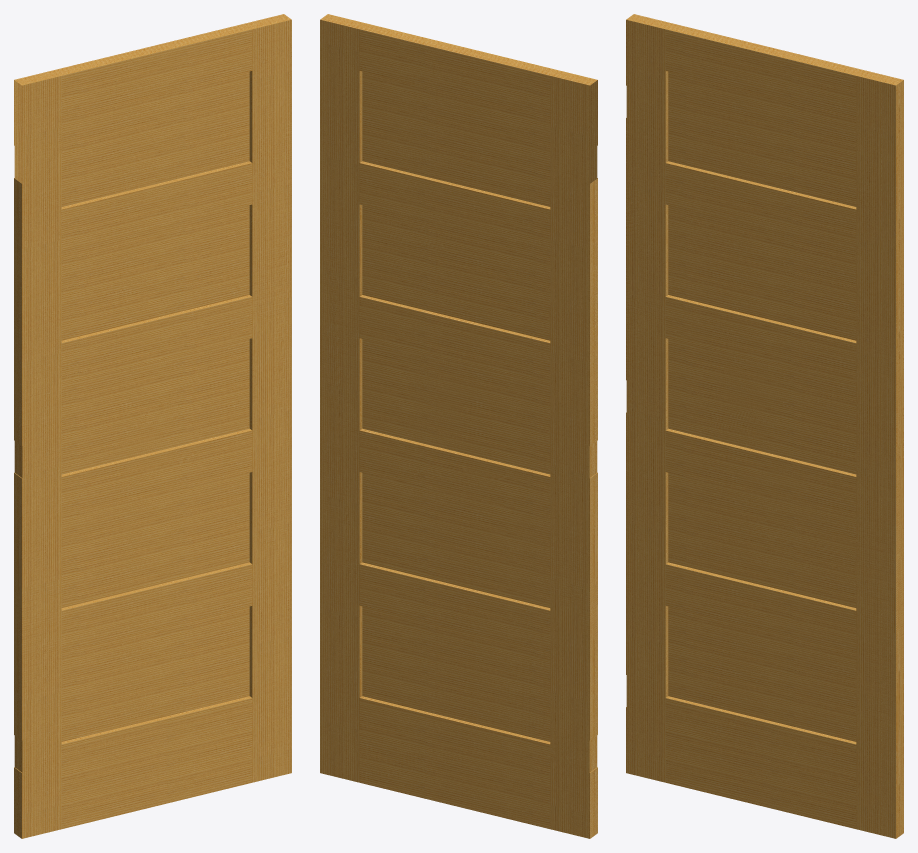
Rendered from board.dae.
3 views of the same model, side by side, from view 1: azimuth 30°, elevation 25°; view 2: azimuth 150°, elevation 25°; view 3: azimuth 330°, elevation 25° (orthographic).
Parts seen in each view (by area): view 1: group_1.063; view 2: group_1.063; view 3: group_1.063.
Part boxes in pixels (left/top/right/bottom): group_1.063: left=14, top=14, right=291, bottom=838; group_1.063: left=320, top=14, right=597, bottom=838; group_1.063: left=626, top=14, right=903, bottom=838.
Bounding box in the file's own units: 0.762 × 0.0381 × 2.03.
1 material, 1 textured.
